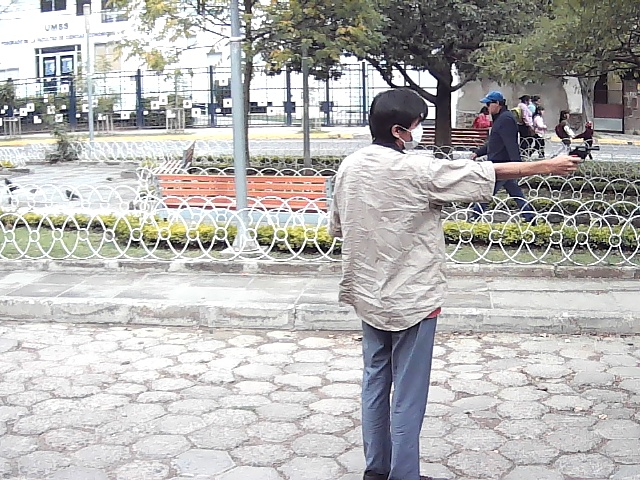pistola: (549, 142, 603, 180)
